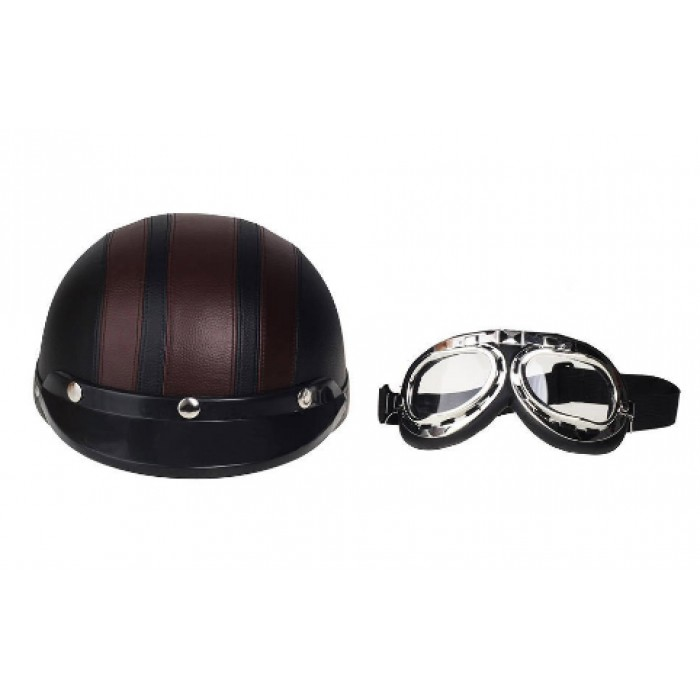with_helmet: (24, 209, 358, 475)
